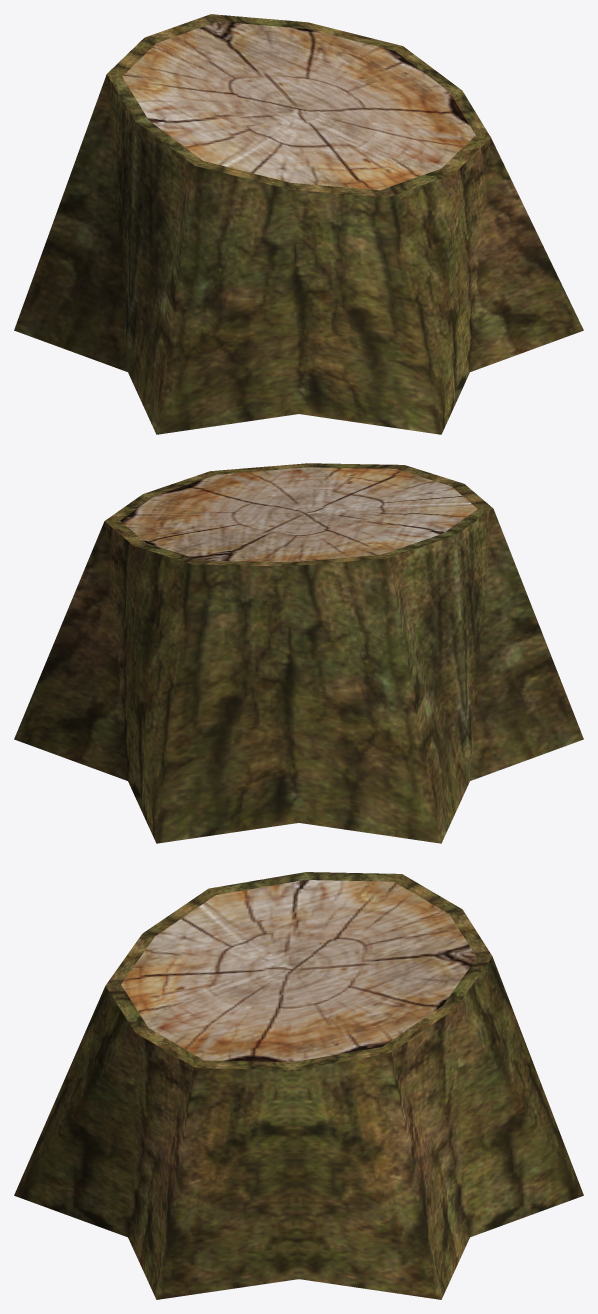
Rendered from Stump01.FBX.
The picture shows the model from 3 angles, top to bottom: view 1: azimuth 30°, elevation 25°; view 2: azimuth 150°, elevation 25°; view 3: azimuth 270°, elevation 25°; orthographic projection.
Visible parts, largest first — view 1: Stump01; view 2: Stump01; view 3: Stump01.
Boxes of the visible parts, x1,y1,x2,y2 form: Stump01: (14, 14, 583, 434); Stump01: (14, 463, 583, 843); Stump01: (14, 872, 583, 1299).
Size of the model in its own units: 152 by 85.92 by 175.
